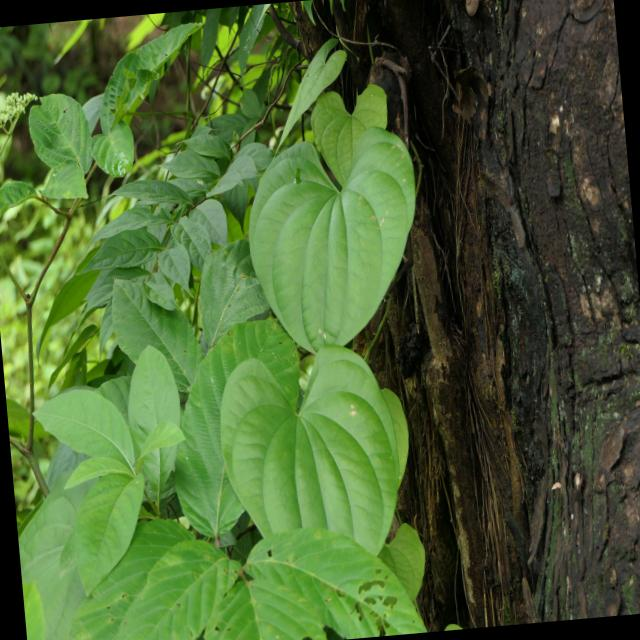Yam: (191, 284, 449, 640), (39, 86, 240, 374), (248, 108, 426, 348), (35, 378, 208, 608)
